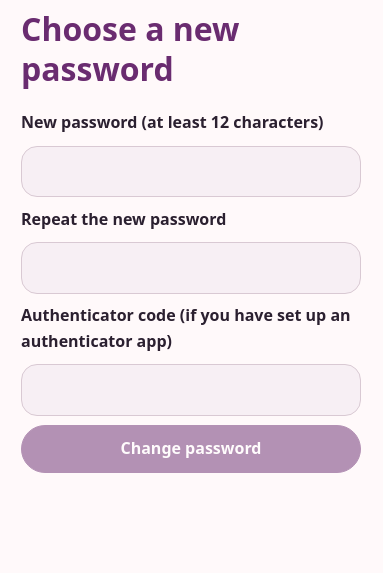
Test: ResetPassword › does not reveal whether the link or the code was wrong
Type "a-long-new-passphrase" into the password field labelled "New password (at least 12 characters)" at (191, 171), box [21,146,361,197]
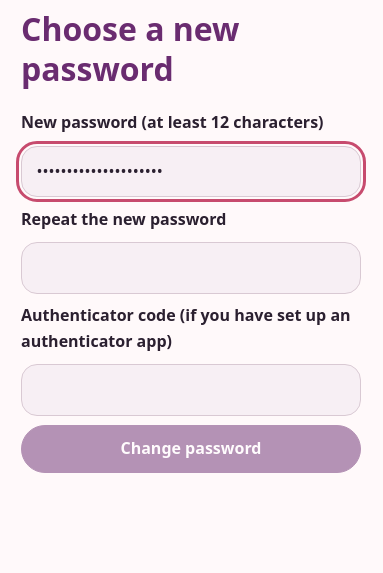
Type "a-long-new-passphrase" into the password field labelled "Repeat the new password" at (191, 268), box [21,242,361,294]
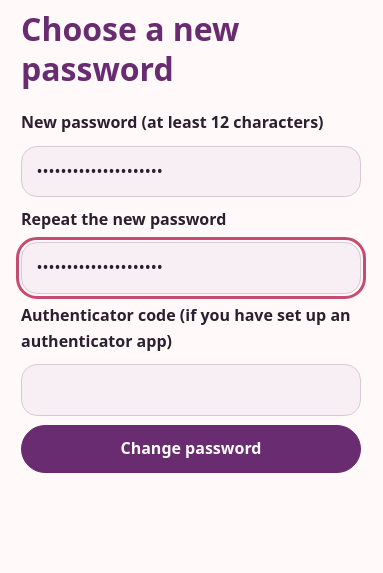
Click the button "Change password" at (191, 449), box [21,425,361,473]
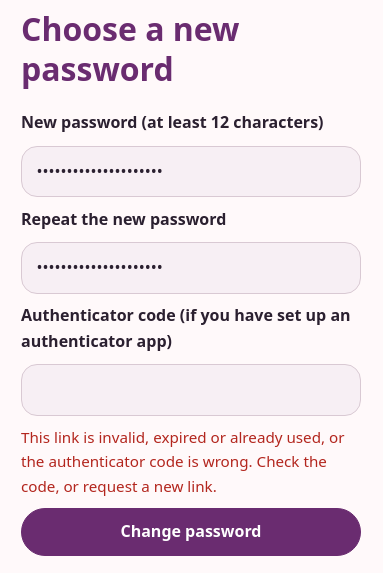
Result: the message shows "invalid, expired or already used, or the authenticator code is wrong" at [21,427,344,496]
